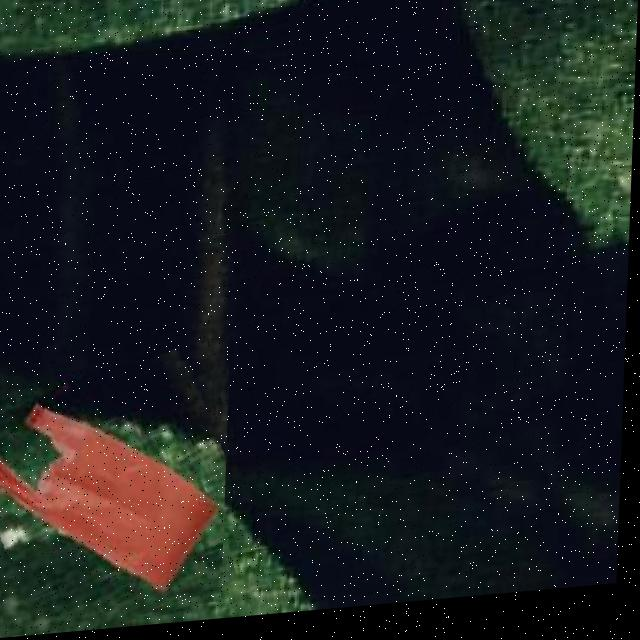plasticcover: (0, 361, 233, 640)
